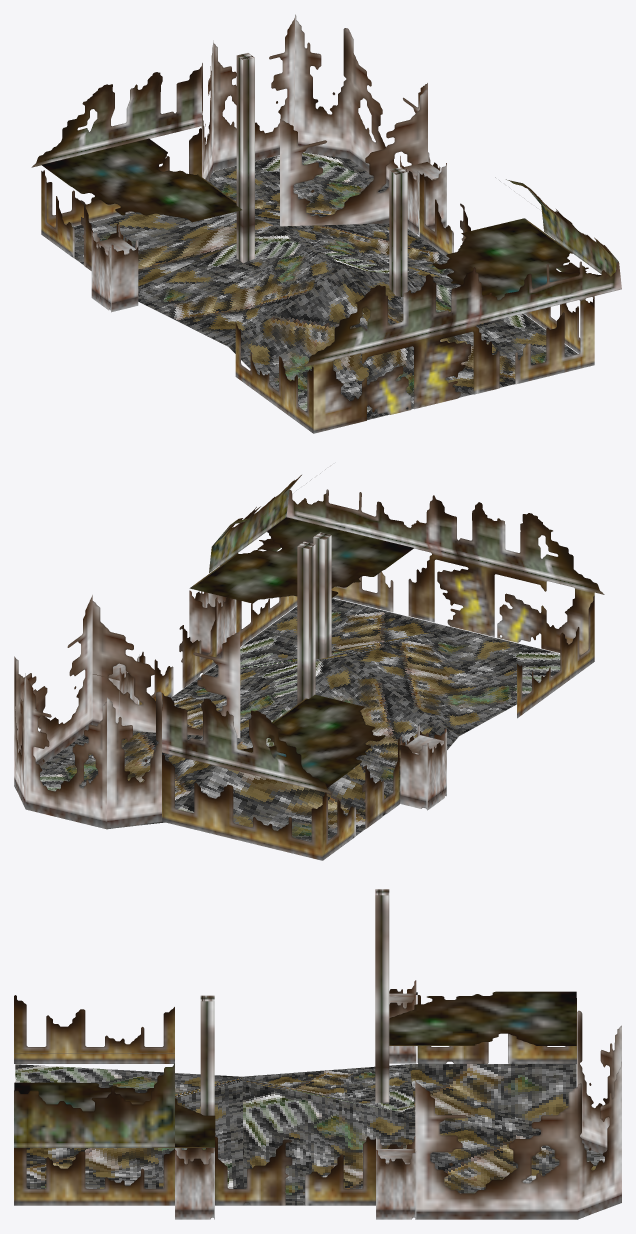
File: l_hq_dam.glb
3 renders of one model, top to bottom at view 1: azimuth 30°, elevation 25°; view 2: azimuth 150°, elevation 25°; view 3: azimuth 270°, elevation 25°, orthographic. The views are drawn at different scales.
Parts seen in each view (by area): view 1: L_SensorControlDAM; view 2: L_SensorControlDAM; view 3: L_SensorControlDAM.
Part boxes in pixels (<box>): L_SensorControlDAM: <box>31,14,621,433</box>; L_SensorControlDAM: <box>14,469,604,860</box>; L_SensorControlDAM: <box>14,889,621,1219</box>.
Size of the model in its own units: 19.94 by 12.47 by 30.23.
Materials: 2 (2 with a texture image).
